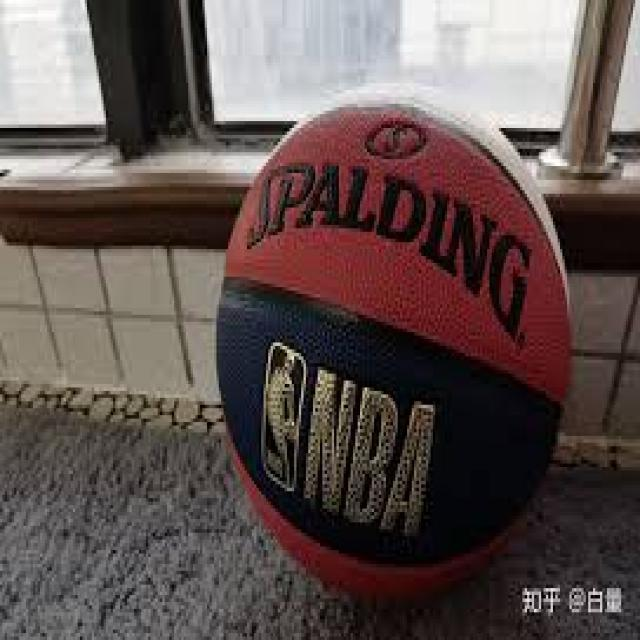rim: (224, 90, 572, 592)
